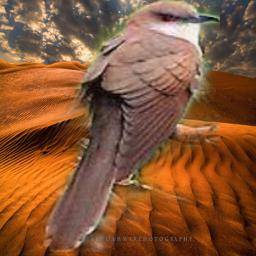Cuckoo: (43, 0, 220, 252)
Sparrow: (106, 52, 160, 151)
